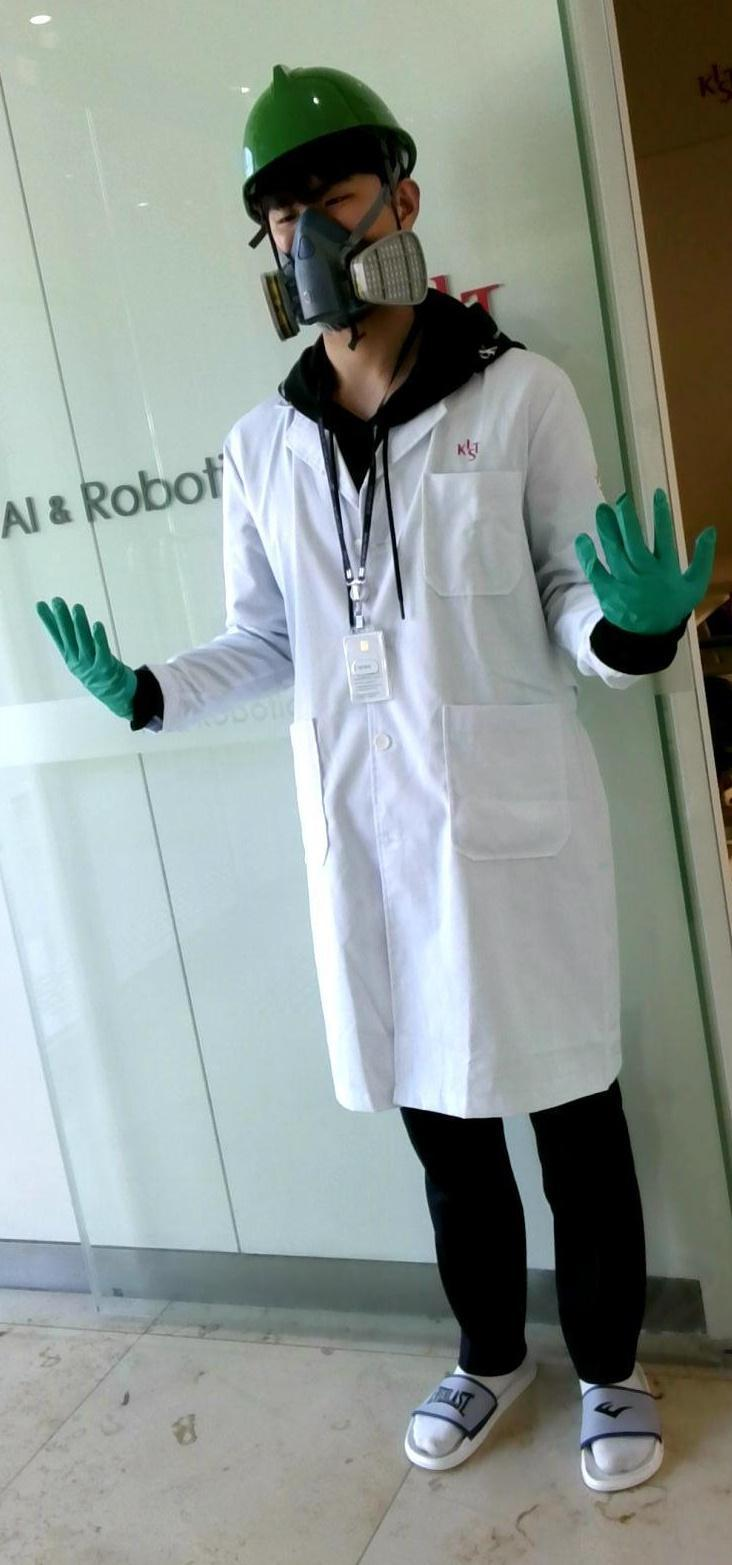lab_coat: (224, 364, 594, 1128)
